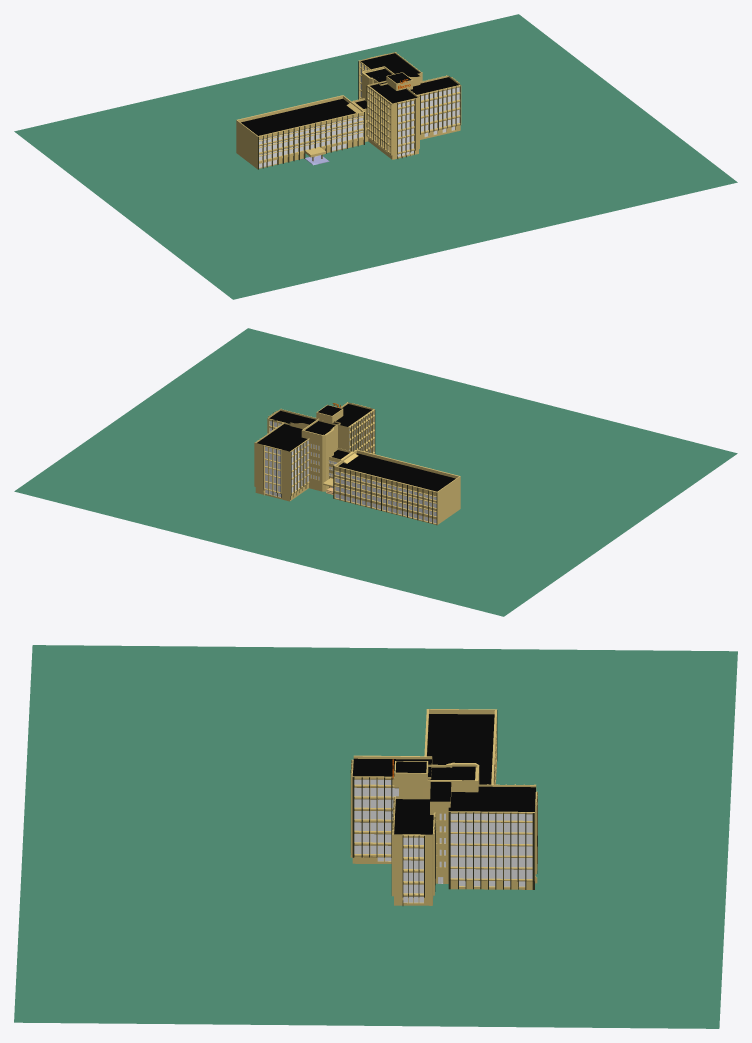
Rendered from UPT.gltf.
3 views of the same model, one above another, from view 1: azimuth 30°, elevation 25°; view 2: azimuth 150°, elevation 25°; view 3: azimuth 270°, elevation 25° (orthographic). The views are drawn at different scales.
Parts seen in each view (by area): view 1: Cube; view 2: Cube; view 3: Cube.
Boxes of the visible parts, x1,y1,x2,y2 form: Cube: (14,14,737,299); Cube: (14,328,737,616); Cube: (14,645,737,1028).
Size of the model in its own units: 39.64 by 5.85 by 31.59.
